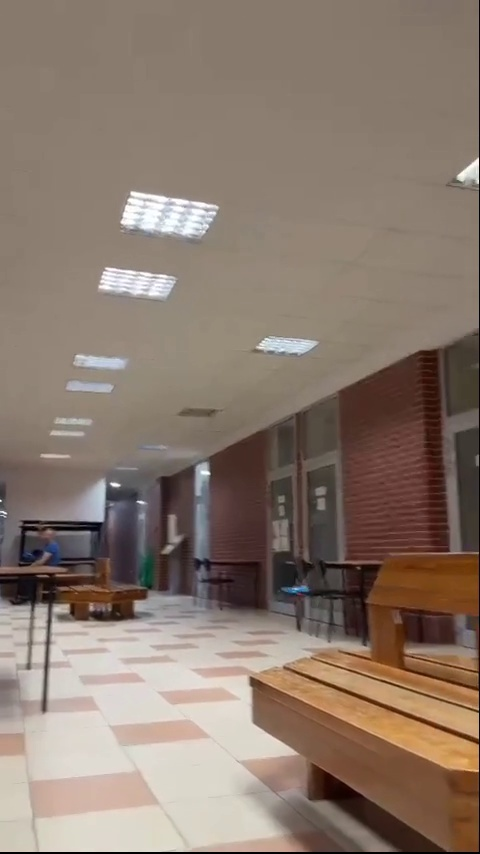drone: (282, 584, 314, 600)
no vest: (20, 519, 61, 575)
